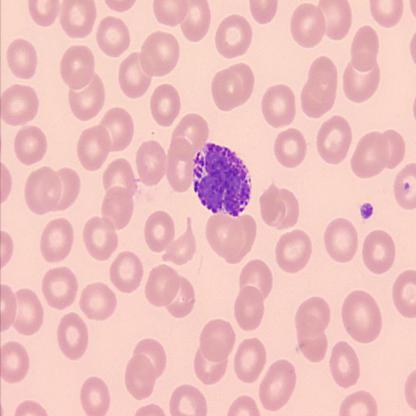Basophil: (189, 141, 252, 218)
